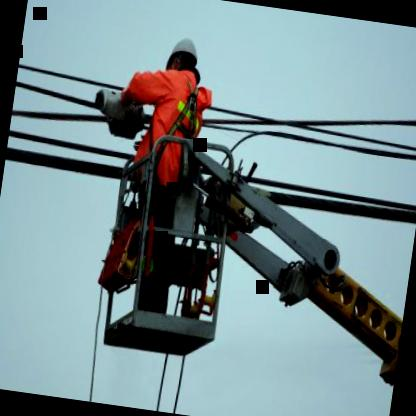helmet: (160, 30, 204, 96)
